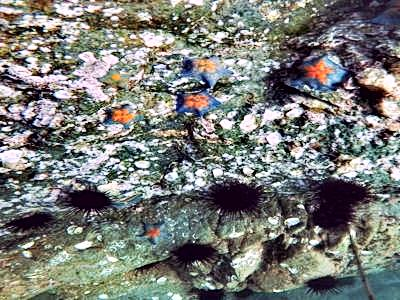urchin: (209, 178, 260, 211), (310, 197, 352, 227), (318, 177, 366, 203), (66, 188, 113, 212), (176, 243, 210, 258), (307, 273, 338, 289), (10, 213, 51, 225)
